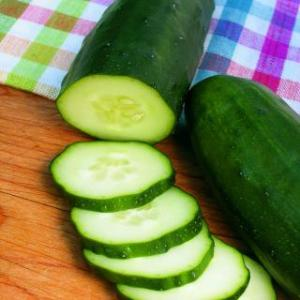cucumber: (180, 71, 300, 300), (57, 0, 217, 144)
